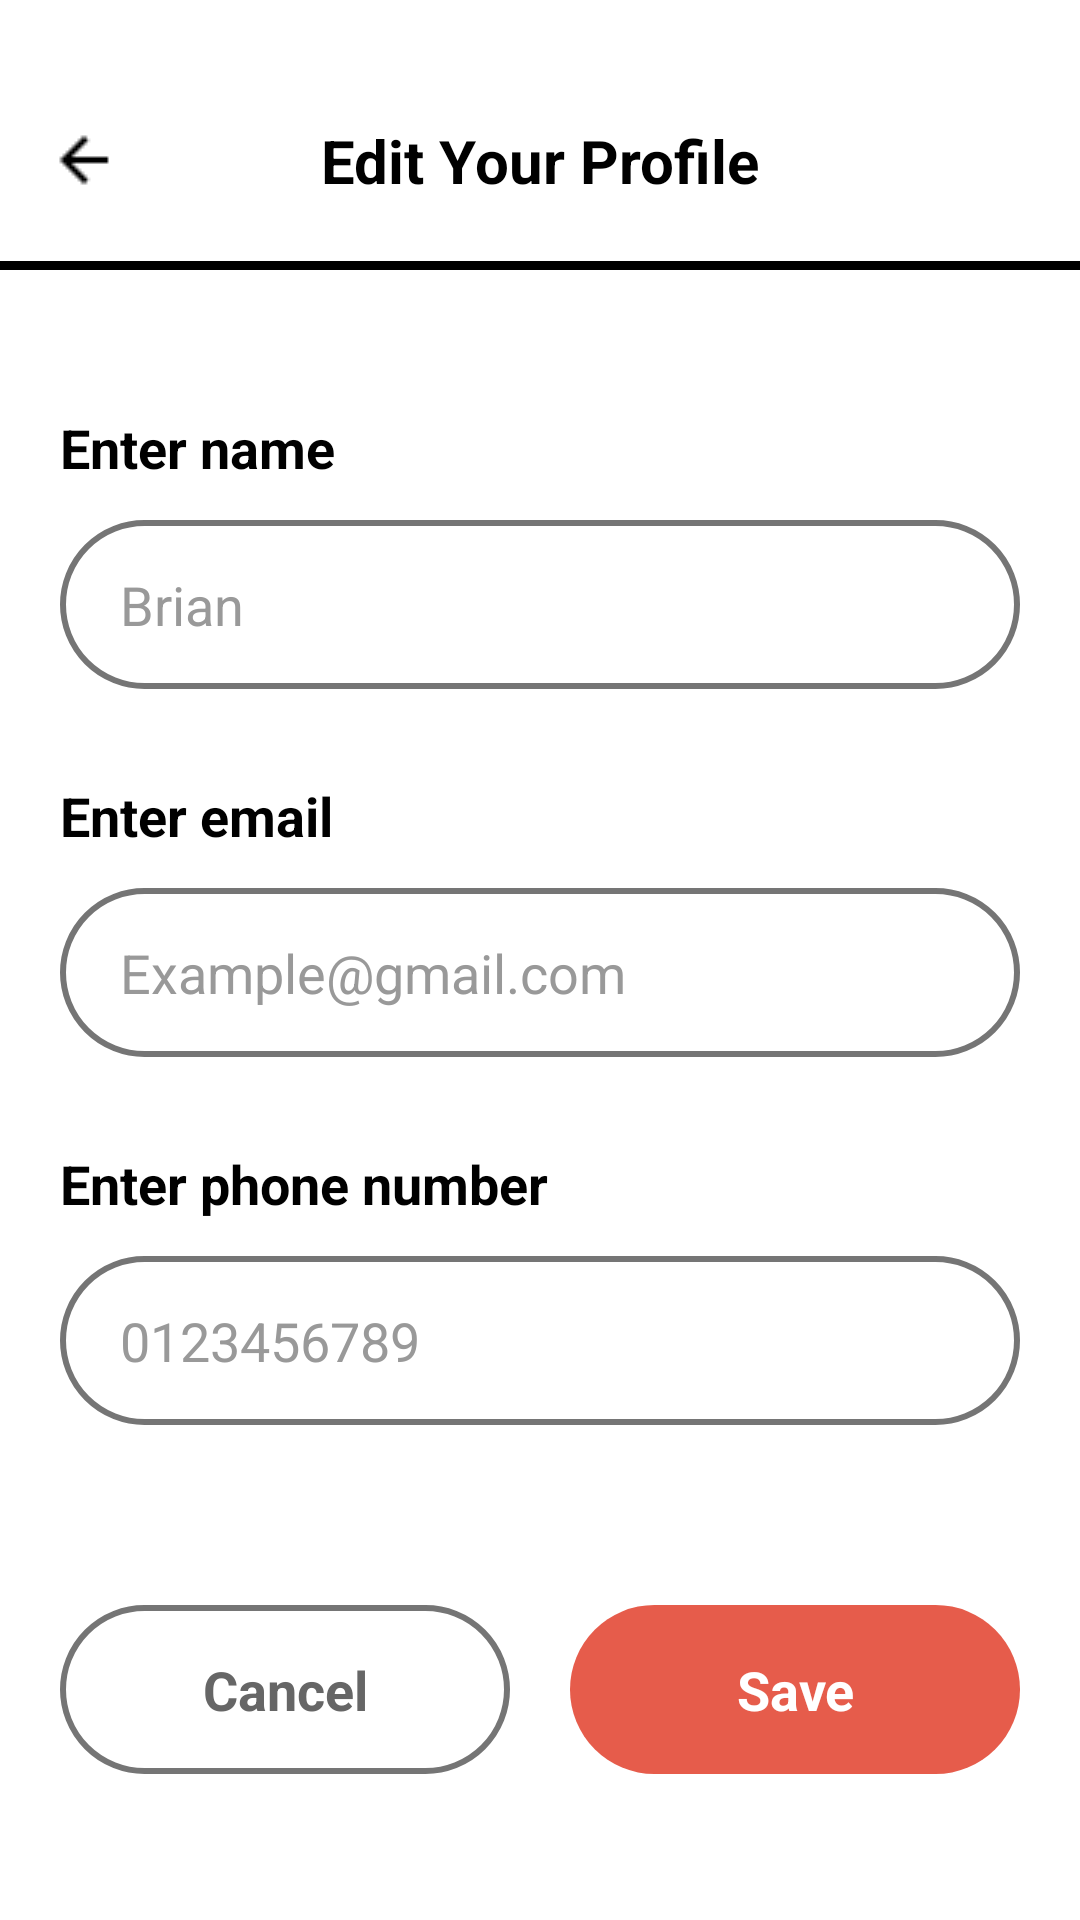

Where to tap for icons on this 1080 × 1920 app screen, as point (x, y):
Back: point (84, 160)
